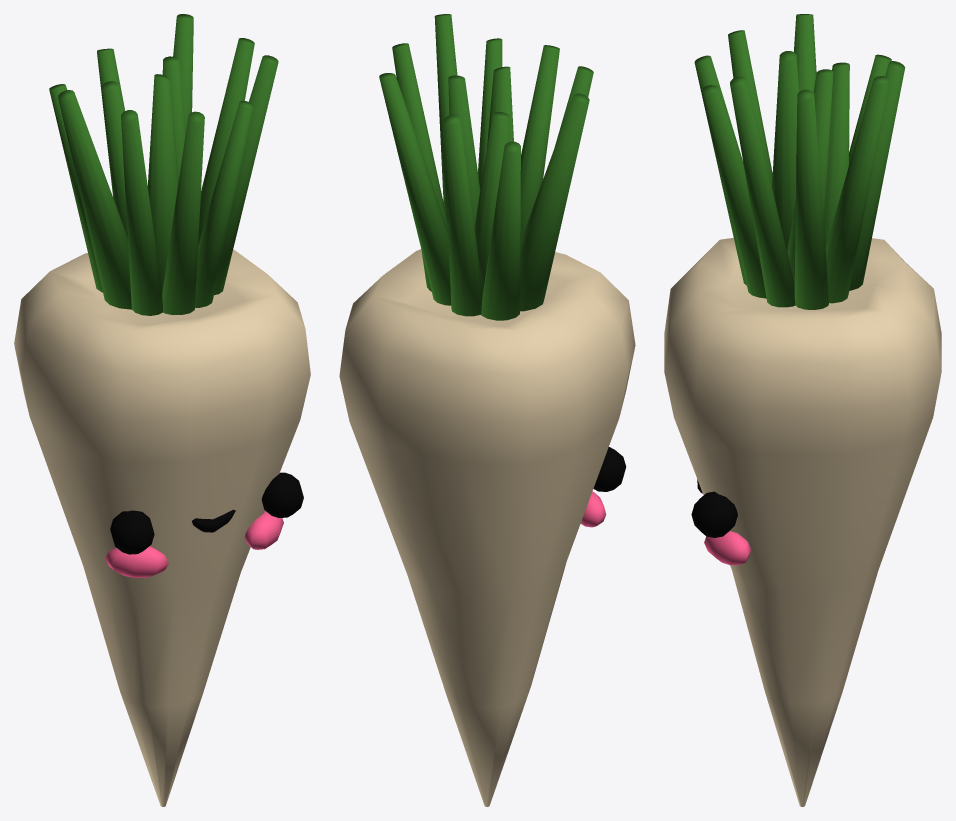
File: Parsnip(smiling).fbx
The picture shows the model from 3 angles, left to right: view 1: azimuth 30°, elevation 25°; view 2: azimuth 150°, elevation 25°; view 3: azimuth 270°, elevation 25°; orthographic projection.
Parts seen in each view (by area): view 1: Parsnip(smiling); view 2: Parsnip(smiling); view 3: Parsnip(smiling).
Part boxes in pixels (bbox=[...]): Parsnip(smiling): bbox=[14, 14, 310, 806]; Parsnip(smiling): bbox=[339, 14, 635, 806]; Parsnip(smiling): bbox=[664, 14, 941, 806].
Bounding box in the file's own units: 94.69 × 288 × 94.64.
